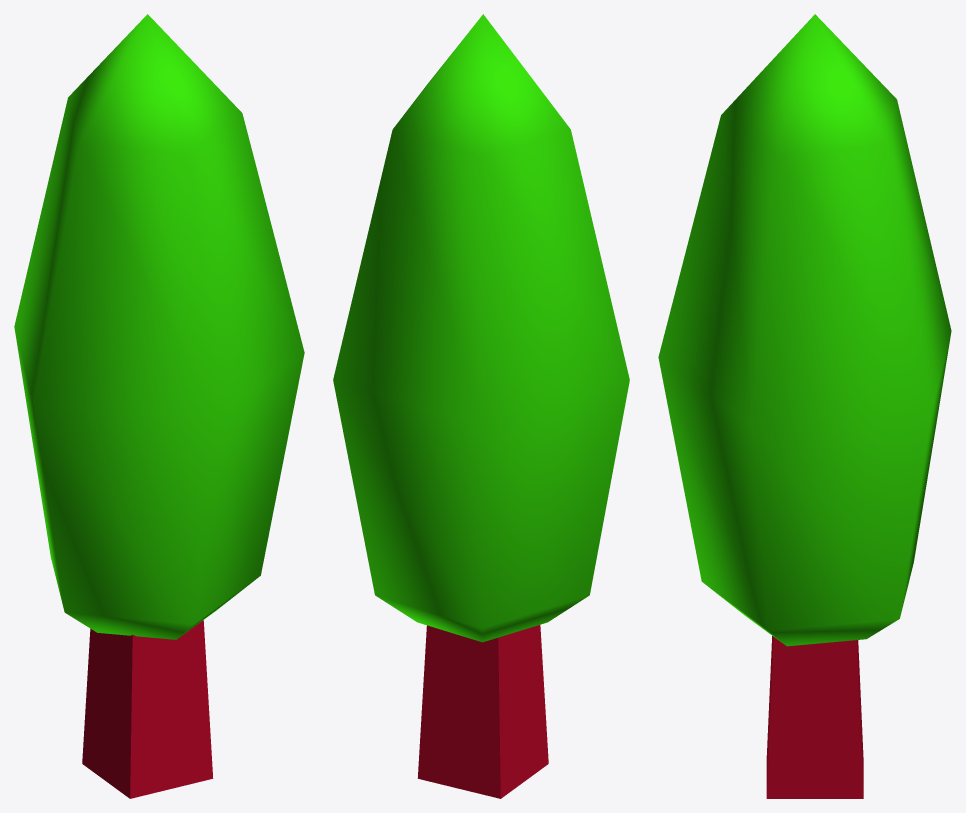
Rendered from Pine.fbx.
The picture shows the model from 3 angles, left to right: view 1: azimuth 30°, elevation 25°; view 2: azimuth 150°, elevation 25°; view 3: azimuth 270°, elevation 25°; orthographic projection.
Visible parts, largest first — view 1: LOD3_Slim_Bush1; view 2: LOD3_Slim_Bush1; view 3: LOD3_Slim_Bush1.
Boxes of the visible parts, x1,y1,x2,y2 form: LOD3_Slim_Bush1: [14, 14, 304, 798]; LOD3_Slim_Bush1: [333, 14, 629, 798]; LOD3_Slim_Bush1: [658, 14, 951, 798].
Bounding box in the file's own units: 2.92 × 8.28 × 2.88.
